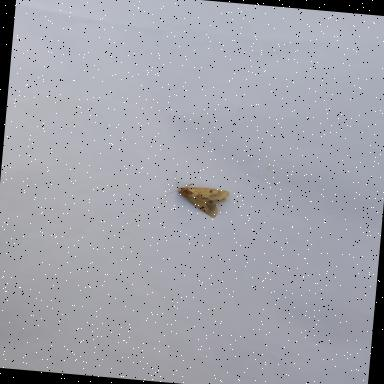abw: (156, 165, 234, 222)
